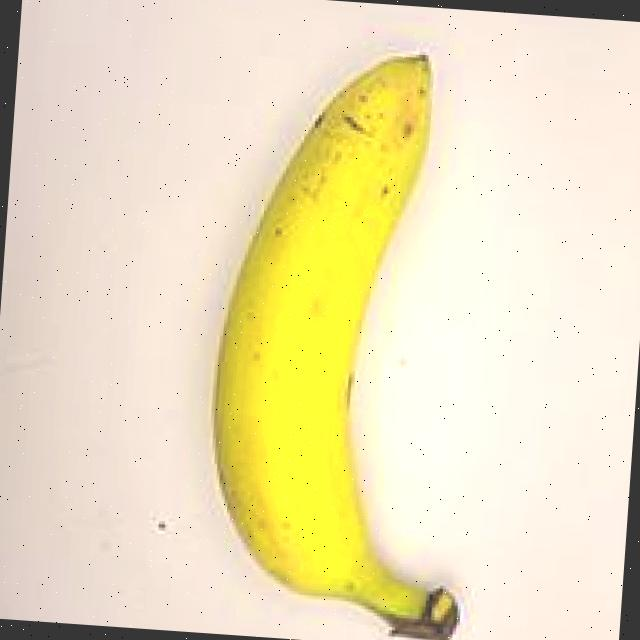Ripe: (144, 3, 542, 640)
